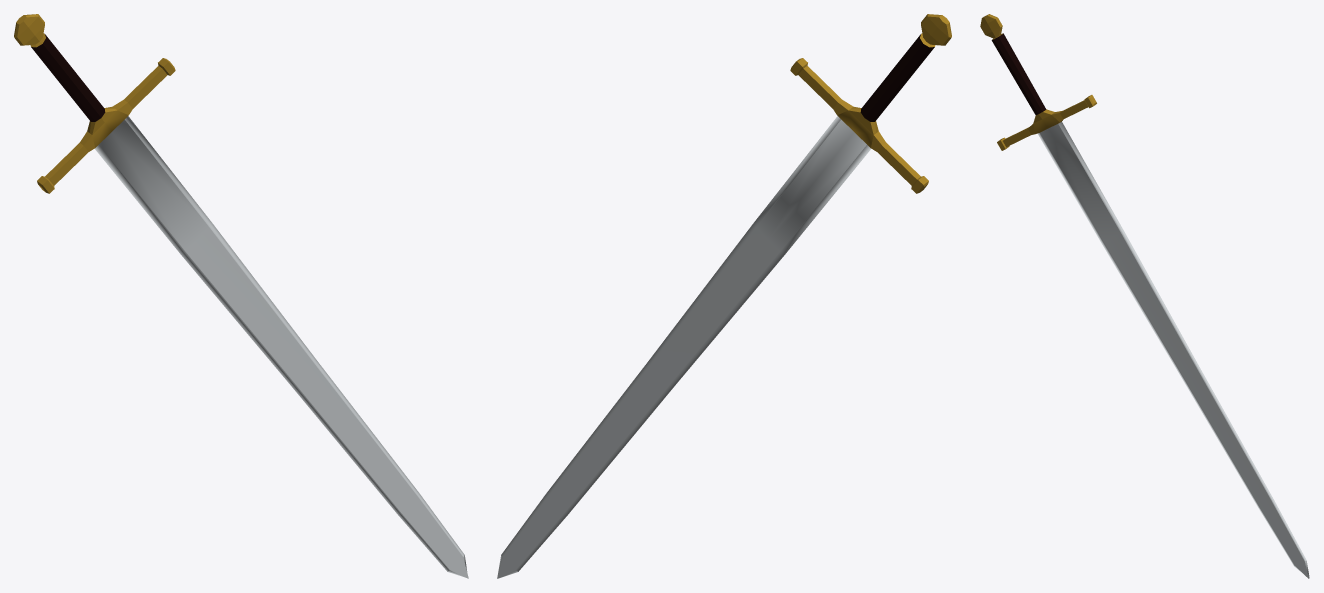
The model's file is angledSword_01.fbx.
The picture shows the model from 3 angles, left to right: view 1: azimuth 30°, elevation 25°; view 2: azimuth 150°, elevation 25°; view 3: azimuth 330°, elevation 25°; orthographic projection. The views are drawn at different scales.
Visible parts, largest first — view 1: sword_02; view 2: sword_02; view 3: sword_02.
Part boxes in pixels (box(x1,y1,x2,y2)): sword_02: box(14, 14, 468, 578); sword_02: box(497, 14, 951, 578); sword_02: box(980, 14, 1309, 578).
Size of the model in its own units: 71.15 by 100 by 2.62.
